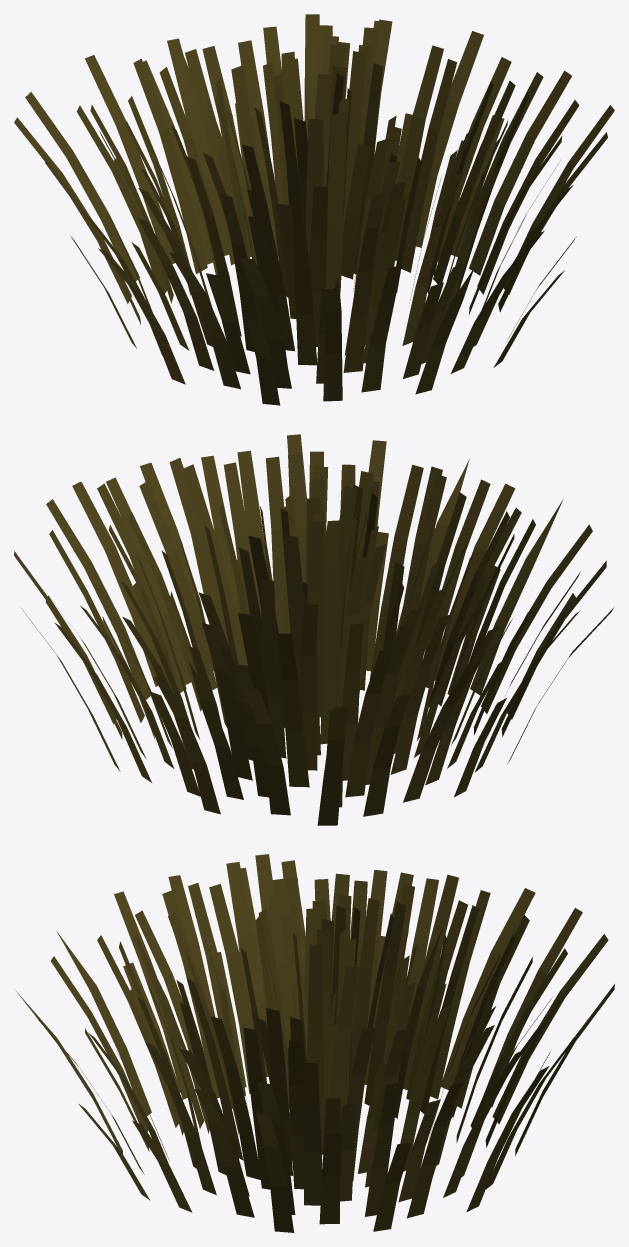
The model's file is Mini Arbusto.fbx.
3 renders of one model, top to bottom at view 1: azimuth 30°, elevation 25°; view 2: azimuth 150°, elevation 25°; view 3: azimuth 270°, elevation 25°, orthographic. The views are drawn at different scales.
Visible parts, largest first — view 1: Foliage001; view 2: Foliage001; view 3: Foliage001.
Part boxes in pixels (bbox=[...]): Foliage001: bbox=[14, 14, 614, 405]; Foliage001: bbox=[14, 434, 614, 825]; Foliage001: bbox=[16, 854, 614, 1232].
Size of the model in its own units: 13.74 by 6.01 by 13.85.
